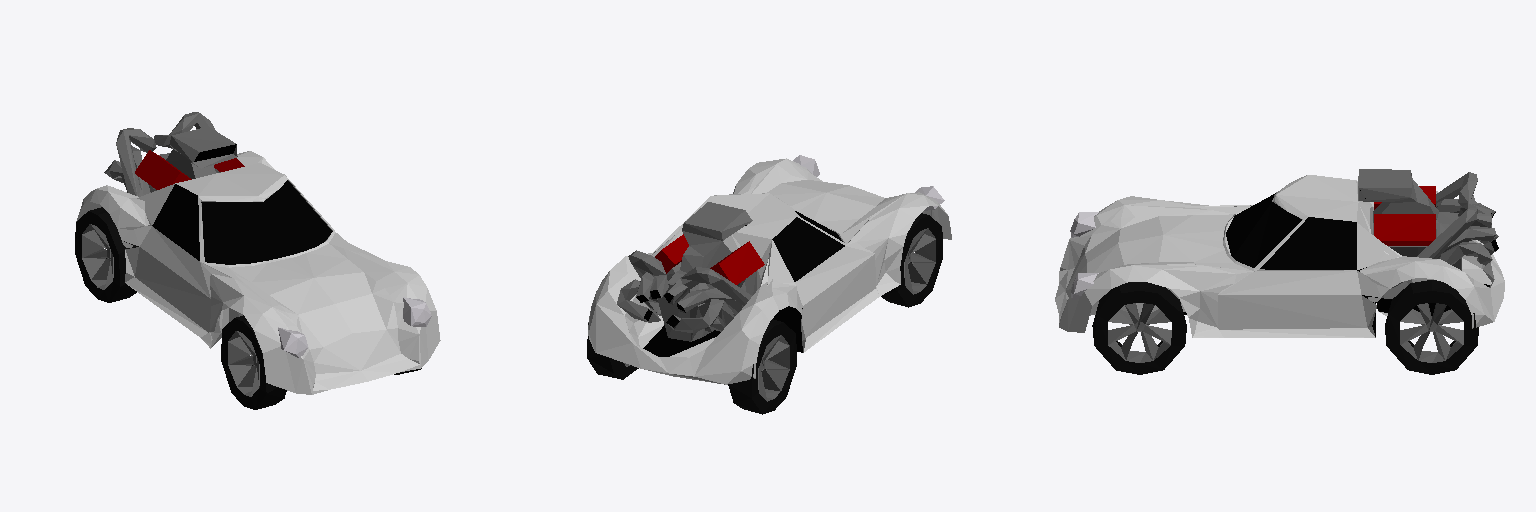
Rendered from hot_rod_356.obj.
3 renders of one model, left to right at view 1: azimuth 30°, elevation 25°; view 2: azimuth 150°, elevation 25°; view 3: azimuth 270°, elevation 25°, orthographic.
Visible parts, largest first — view 1: Cube.002, Cylinder.008, Cylinder.007; view 2: Cube.002, Cylinder.008, Cylinder.007, Cylinder.006; view 3: Cube.002, Cylinder.005, Cylinder.006.
Part boxes in pixels (x1,y1,x2,y2): Cube.002: (76, 112, 440, 394); Cylinder.008: (75, 207, 138, 302); Cylinder.007: (221, 315, 286, 409); Cube.002: (588, 155, 951, 384); Cylinder.008: (728, 319, 796, 414); Cylinder.007: (881, 213, 942, 307); Cylinder.006: (587, 323, 638, 379); Cube.002: (1055, 169, 1504, 337); Cylinder.005: (1092, 282, 1186, 374); Cylinder.006: (1385, 280, 1478, 374).
Size of the model in its own units: 2.84 by 2.4 by 6.22.